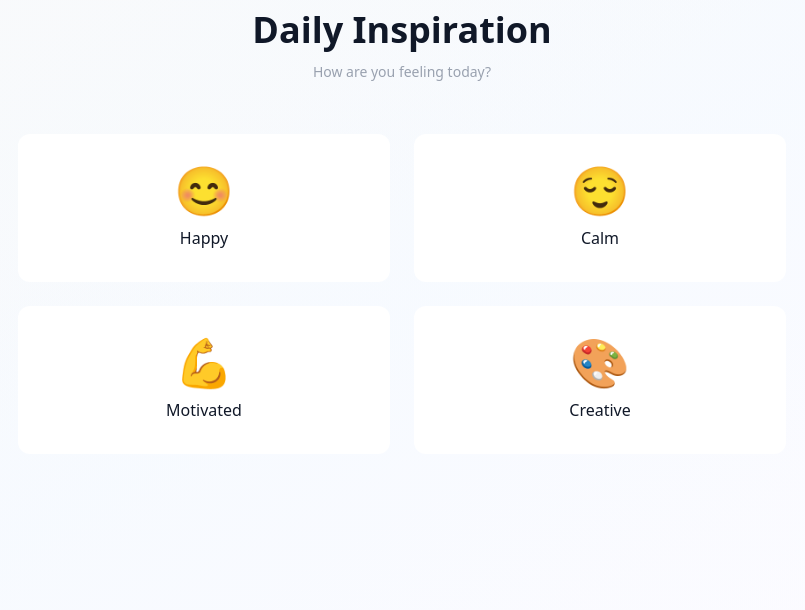
App Integration with InspirationCard › should update content when new mood is selected
Expected: the text "How are you feeling today?" is shown, 313,62 -> 491,81
Note: Click first mood
Click the button "😊 Happy". click: (204, 208)
box: 18,134 -> 390,282
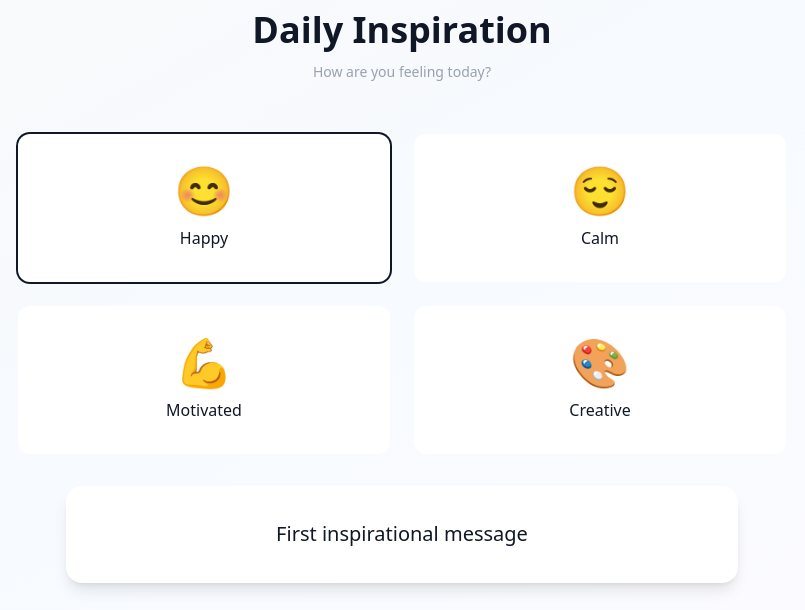
Expected: the text "First inspirational message" is shown, 276,520 -> 528,547
Note: Click second mood
Click the button "😌 Calm". click: (600, 208)
box: 414,134 -> 786,282
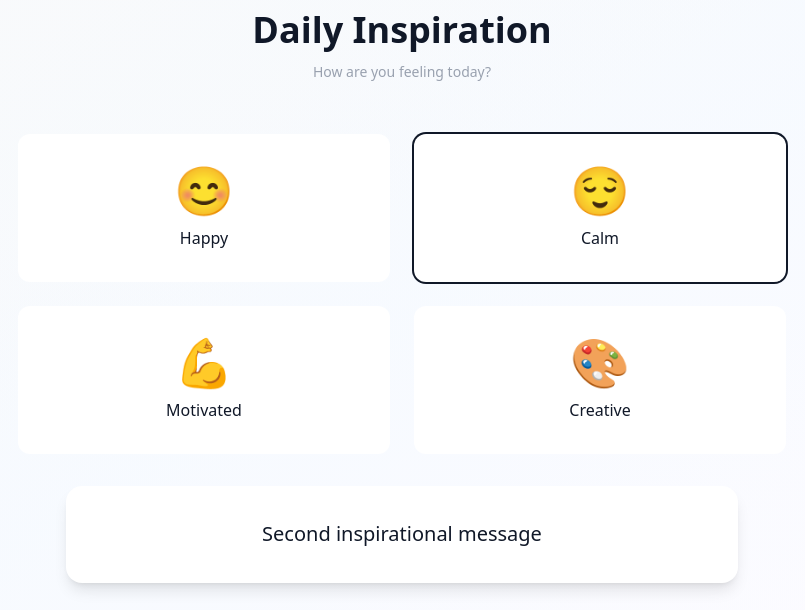
Expected: the text "Second inspirational message" is shown, 262,520 -> 542,547
